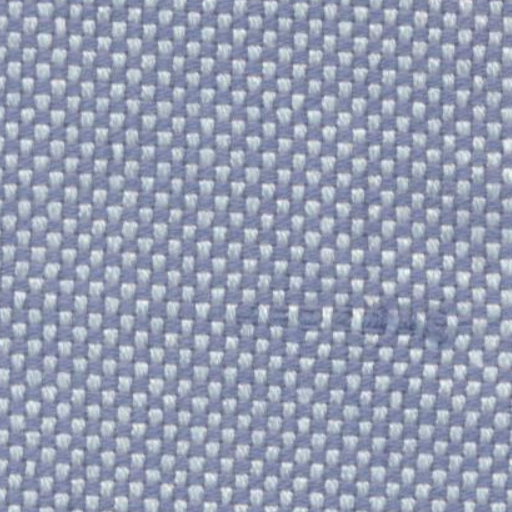TuoSha: (257, 286, 449, 363)
